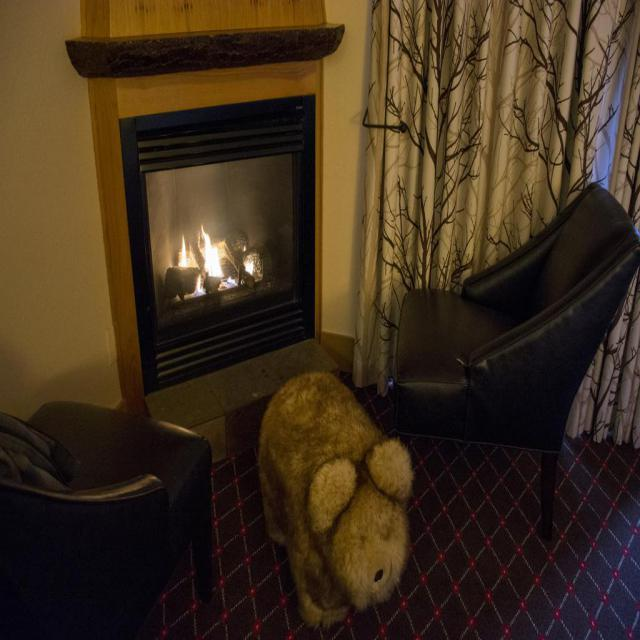Fire: (167, 220, 266, 303)
